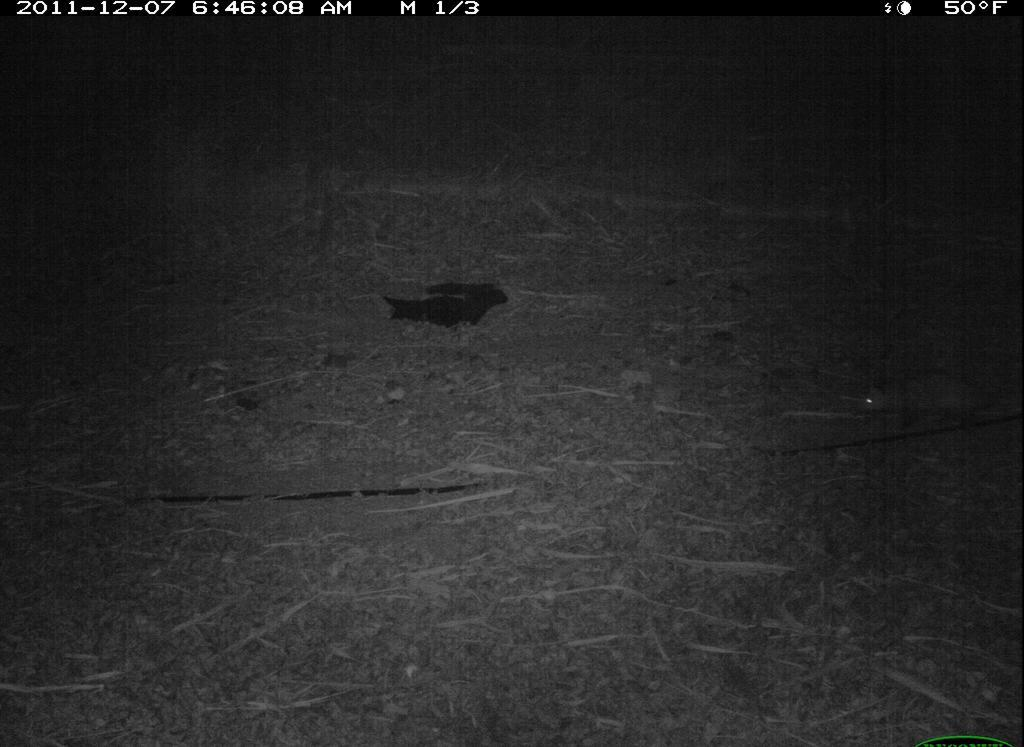opossum: (835, 350, 994, 451)
